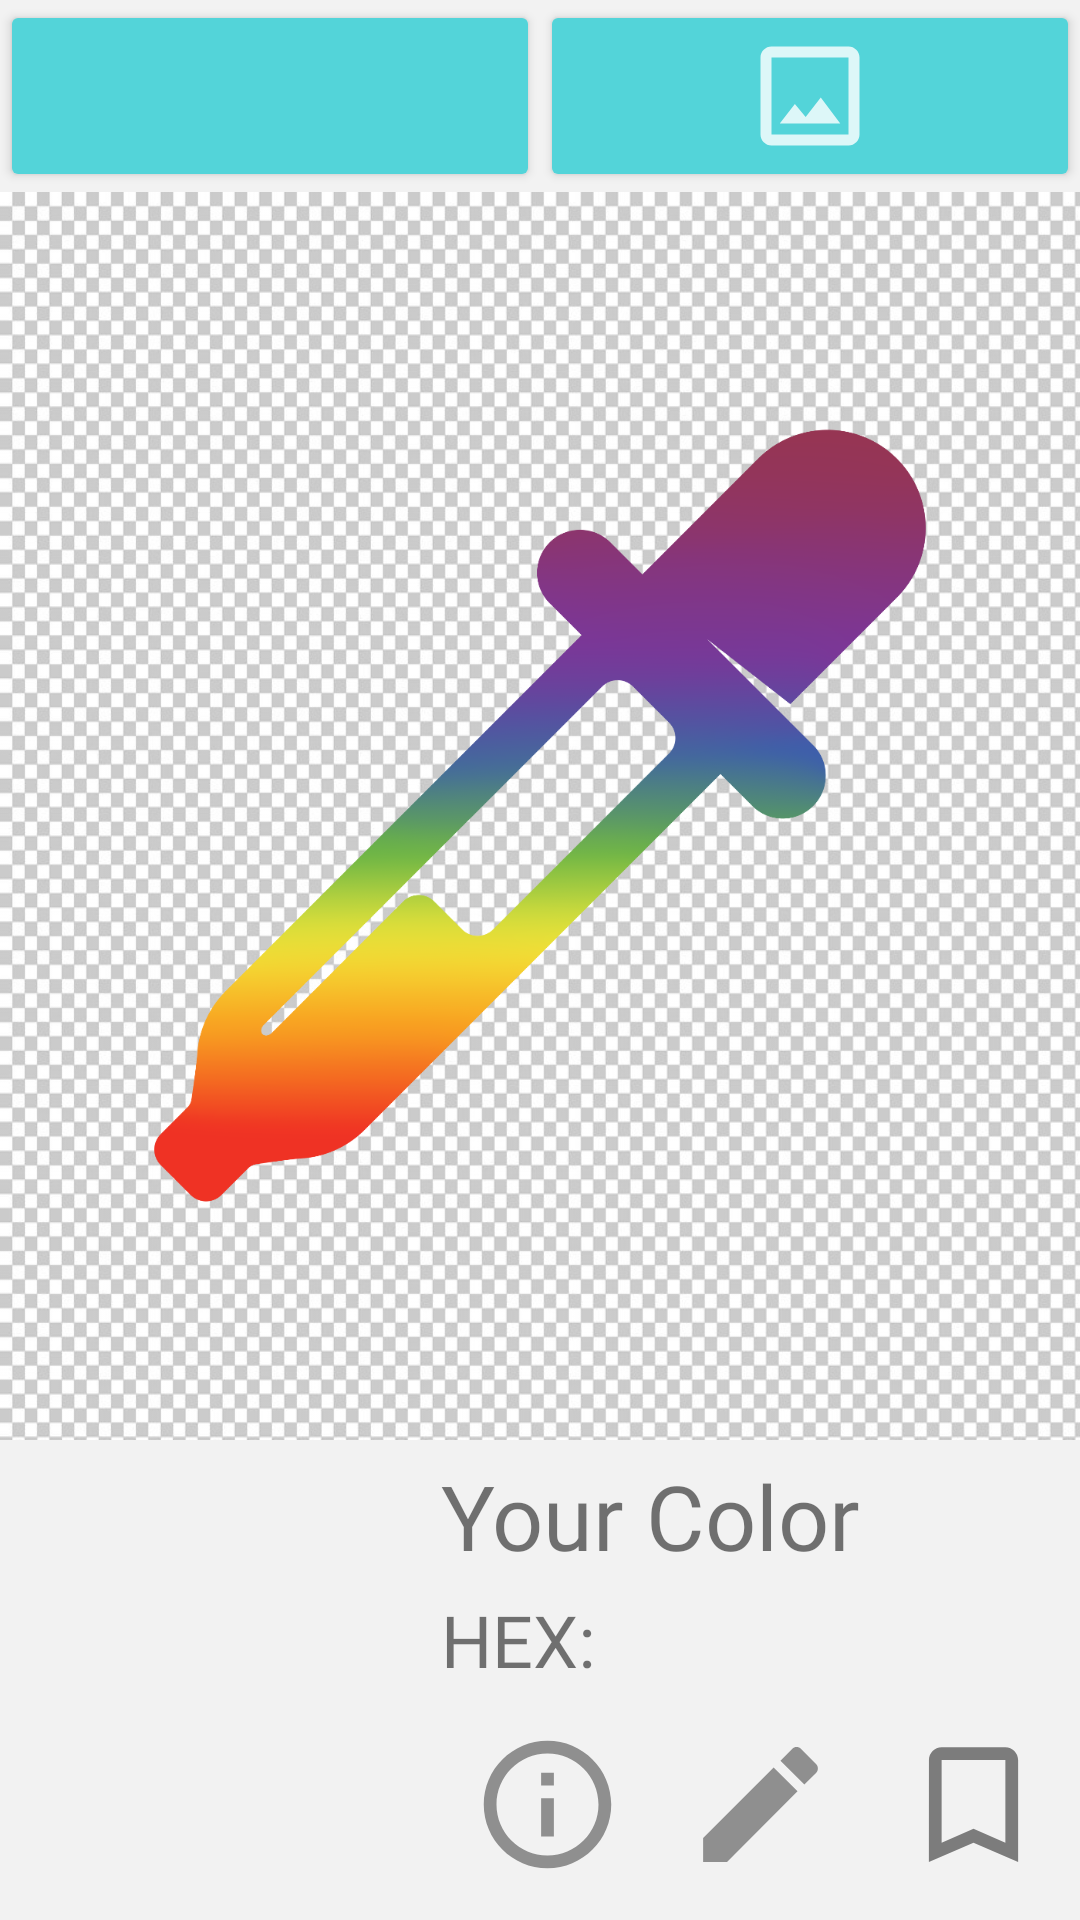

Icon bounding boxes for this 1080w x 1920h phone screenshot, format (x1, y1, x2, y2):
edit: (703, 1747, 818, 1862)
info: (484, 1741, 611, 1868)
